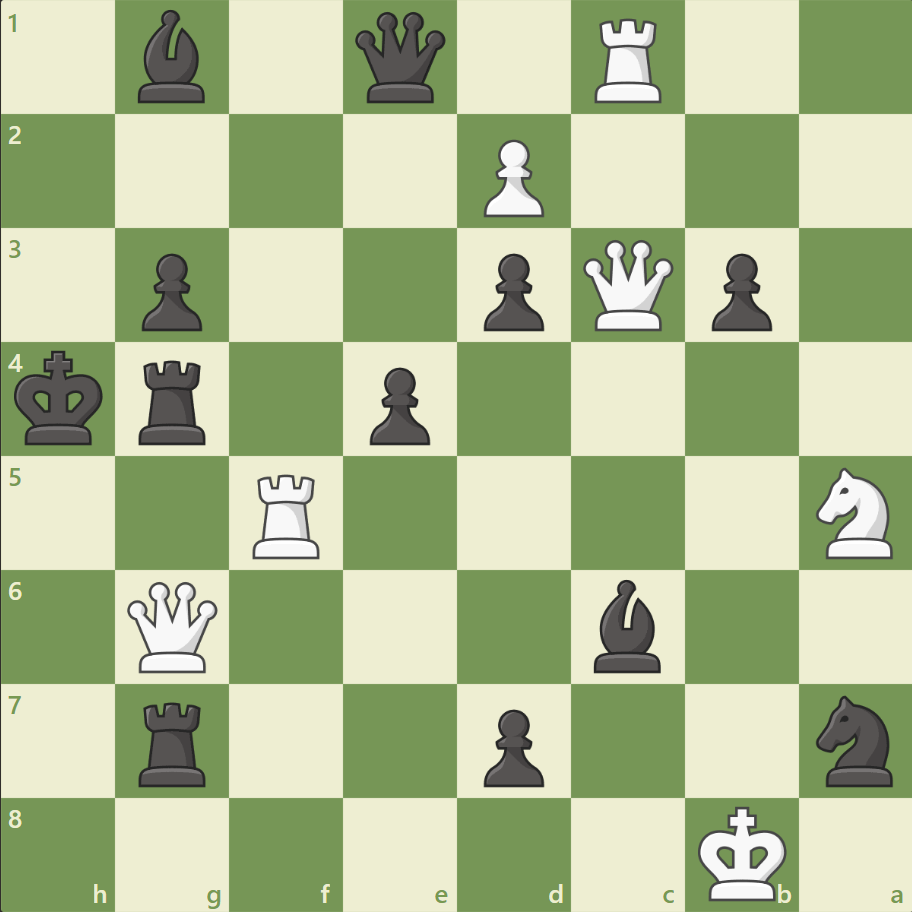K: (692, 798, 792, 906)
N: (806, 461, 903, 564)
P: (474, 132, 549, 223)
Q: (124, 576, 223, 676), (578, 236, 677, 335)
R: (246, 466, 329, 563), (587, 12, 670, 109)
b: (131, 6, 215, 109), (585, 574, 669, 676)
k: (11, 344, 111, 452)
n: (806, 688, 903, 791)
p: (474, 700, 549, 791), (701, 246, 776, 337), (474, 246, 549, 337), (133, 246, 208, 337), (361, 359, 435, 450)
q: (351, 9, 450, 108)
r: (133, 693, 215, 790), (133, 352, 215, 449)
